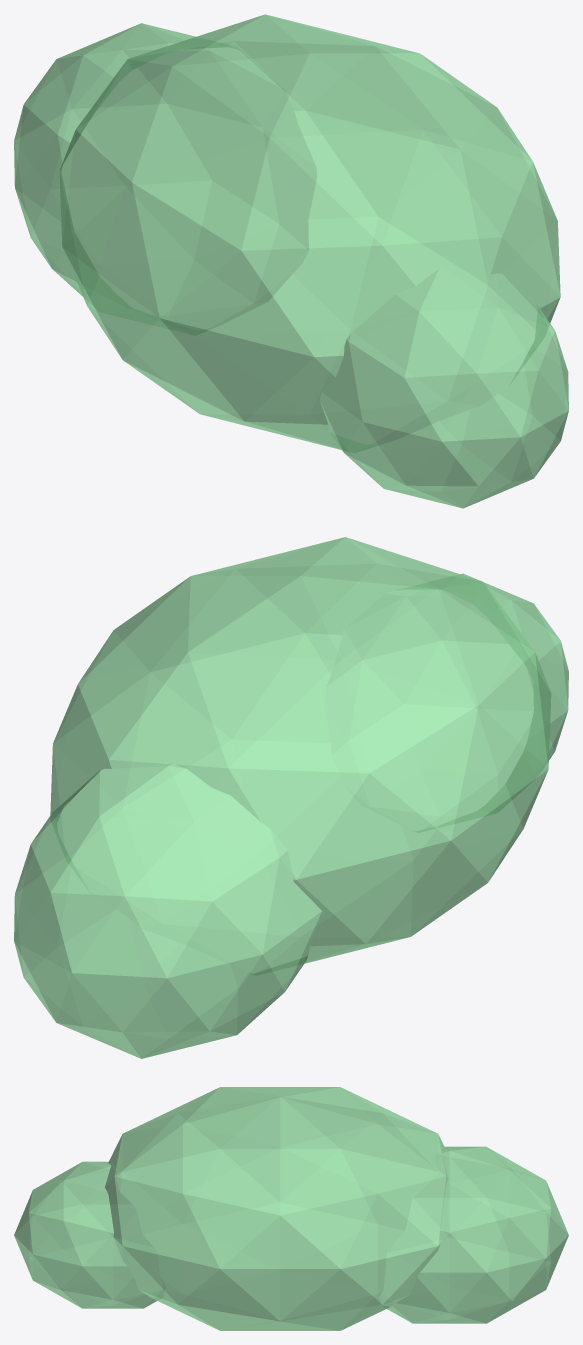
Rendered from nube1.fbx.
3 views of the same model, one above another, from view 1: azimuth 30°, elevation 25°; view 2: azimuth 150°, elevation 25°; view 3: azimuth 270°, elevation 25° (orthographic). The views are drawn at different scales.
Visible parts, largest first — view 1: GeoSphere011; view 2: GeoSphere011; view 3: GeoSphere011.
Part boxes in pixels (left/top/right/bottom): GeoSphere011: left=14, top=14, right=568, bottom=508; GeoSphere011: left=14, top=537, right=568, bottom=1058; GeoSphere011: left=14, top=1087, right=568, bottom=1330.
Size of the model in its own units: 31.53 by 27.35 by 61.49.
